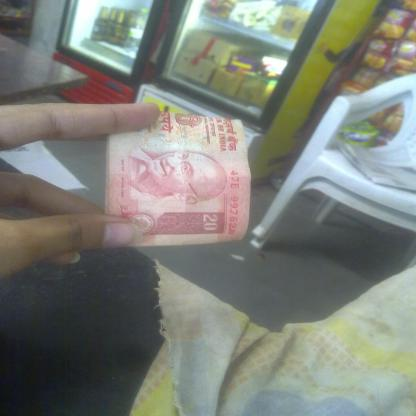Old20Front: (109, 115, 247, 247)
